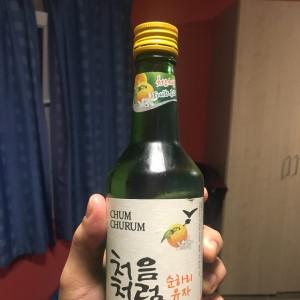soju: (102, 21, 206, 300)
